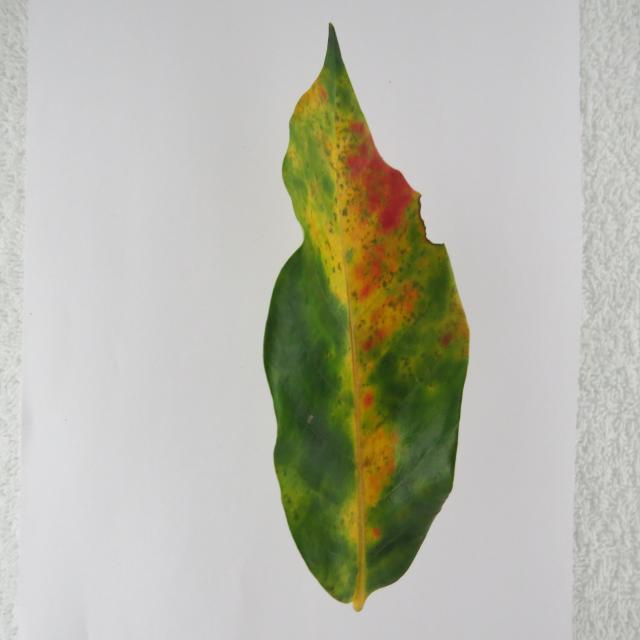DeficienciaNutricional-Fosforo: (264, 25, 469, 610)
